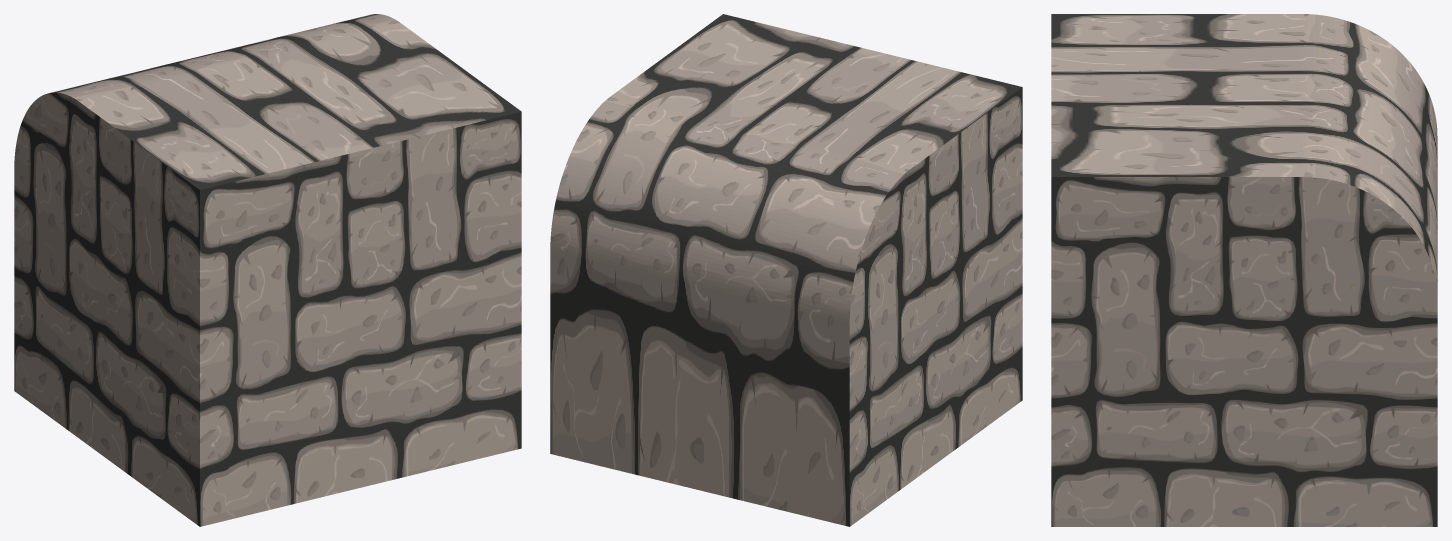
File: bordillo1.fbx
The picture shows the model from 3 angles, left to right: view 1: azimuth 30°, elevation 25°; view 2: azimuth 150°, elevation 25°; view 3: azimuth 270°, elevation 25°; orthographic projection. The views are drawn at different scales.
Visible parts, largest first — view 1: Cube; view 2: Cube; view 3: Cube.
Boxes of the visible parts, x1,y1,x2,y2 form: Cube: [14, 14, 521, 526]; Cube: [550, 14, 1022, 526]; Cube: [1051, 14, 1437, 526].
Size of the model in its own units: 200 by 200 by 200.
Materials: 1 (1 with a texture image).
